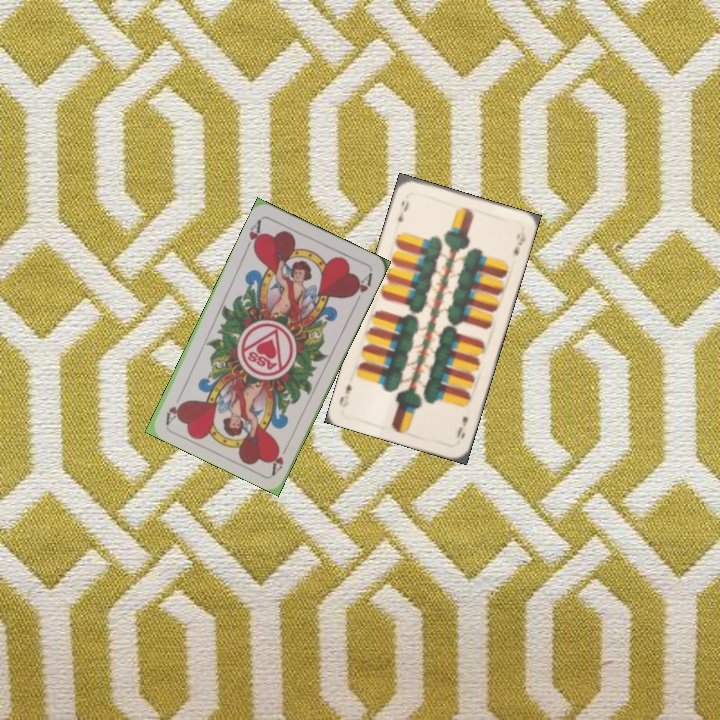E9: (452, 412, 471, 441), (393, 197, 412, 225)
HA: (241, 215, 265, 254), (268, 438, 292, 476)
